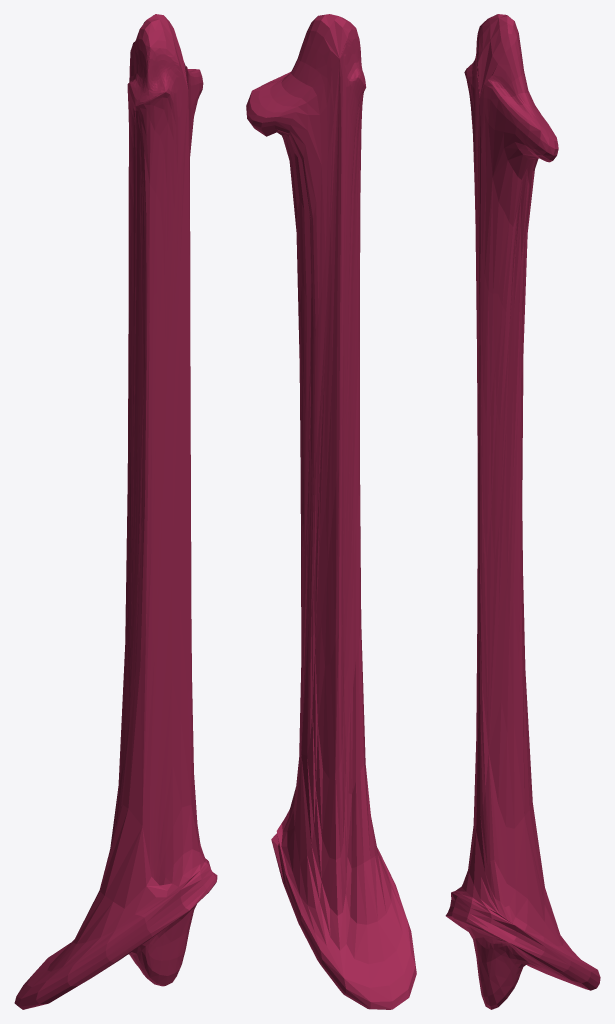
3 views of the same model, side by side, from view 1: azimuth 30°, elevation 25°; view 2: azimuth 150°, elevation 25°; view 3: azimuth 270°, elevation 25° (orthographic). The views are drawn at different scales.
Visible parts, largest first — view 1: 474_Cube.1923; view 2: 474_Cube.1923; view 3: 474_Cube.1923.
Boxes of the visible parts, bbox=[...] form: 474_Cube.1923: bbox=[14, 14, 217, 1009]; 474_Cube.1923: bbox=[246, 14, 416, 1009]; 474_Cube.1923: bbox=[445, 14, 600, 1009].
Bounding box in the file's own units: 2.25 × 12.12 × 1.67.
